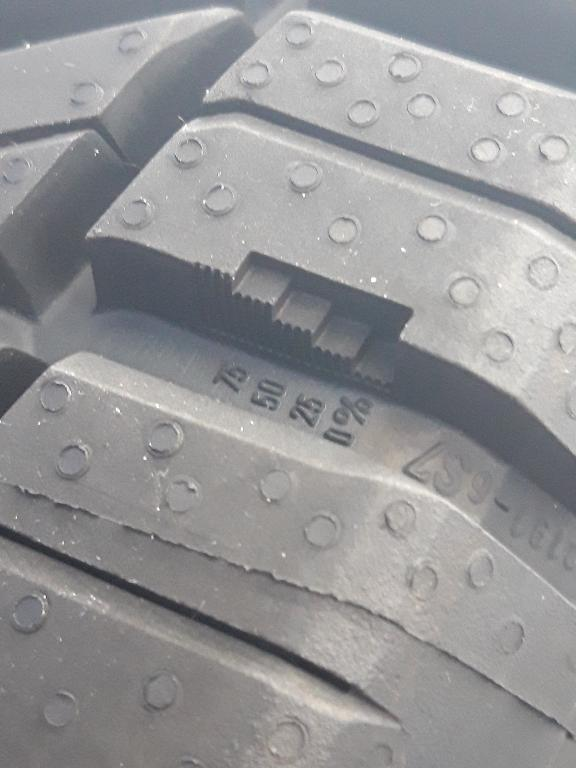temoin:100: (189, 244, 418, 407)
